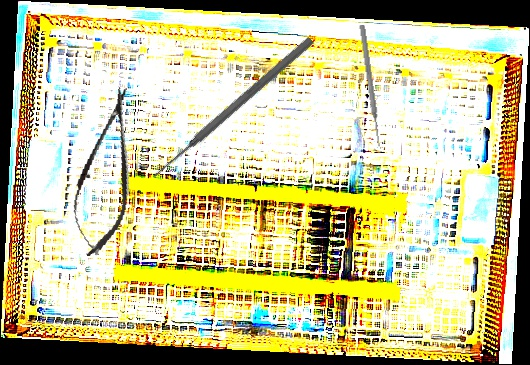Micro Scissor: (63, 82, 149, 261)
Pusher: (148, 34, 316, 183), (357, 24, 384, 148)
